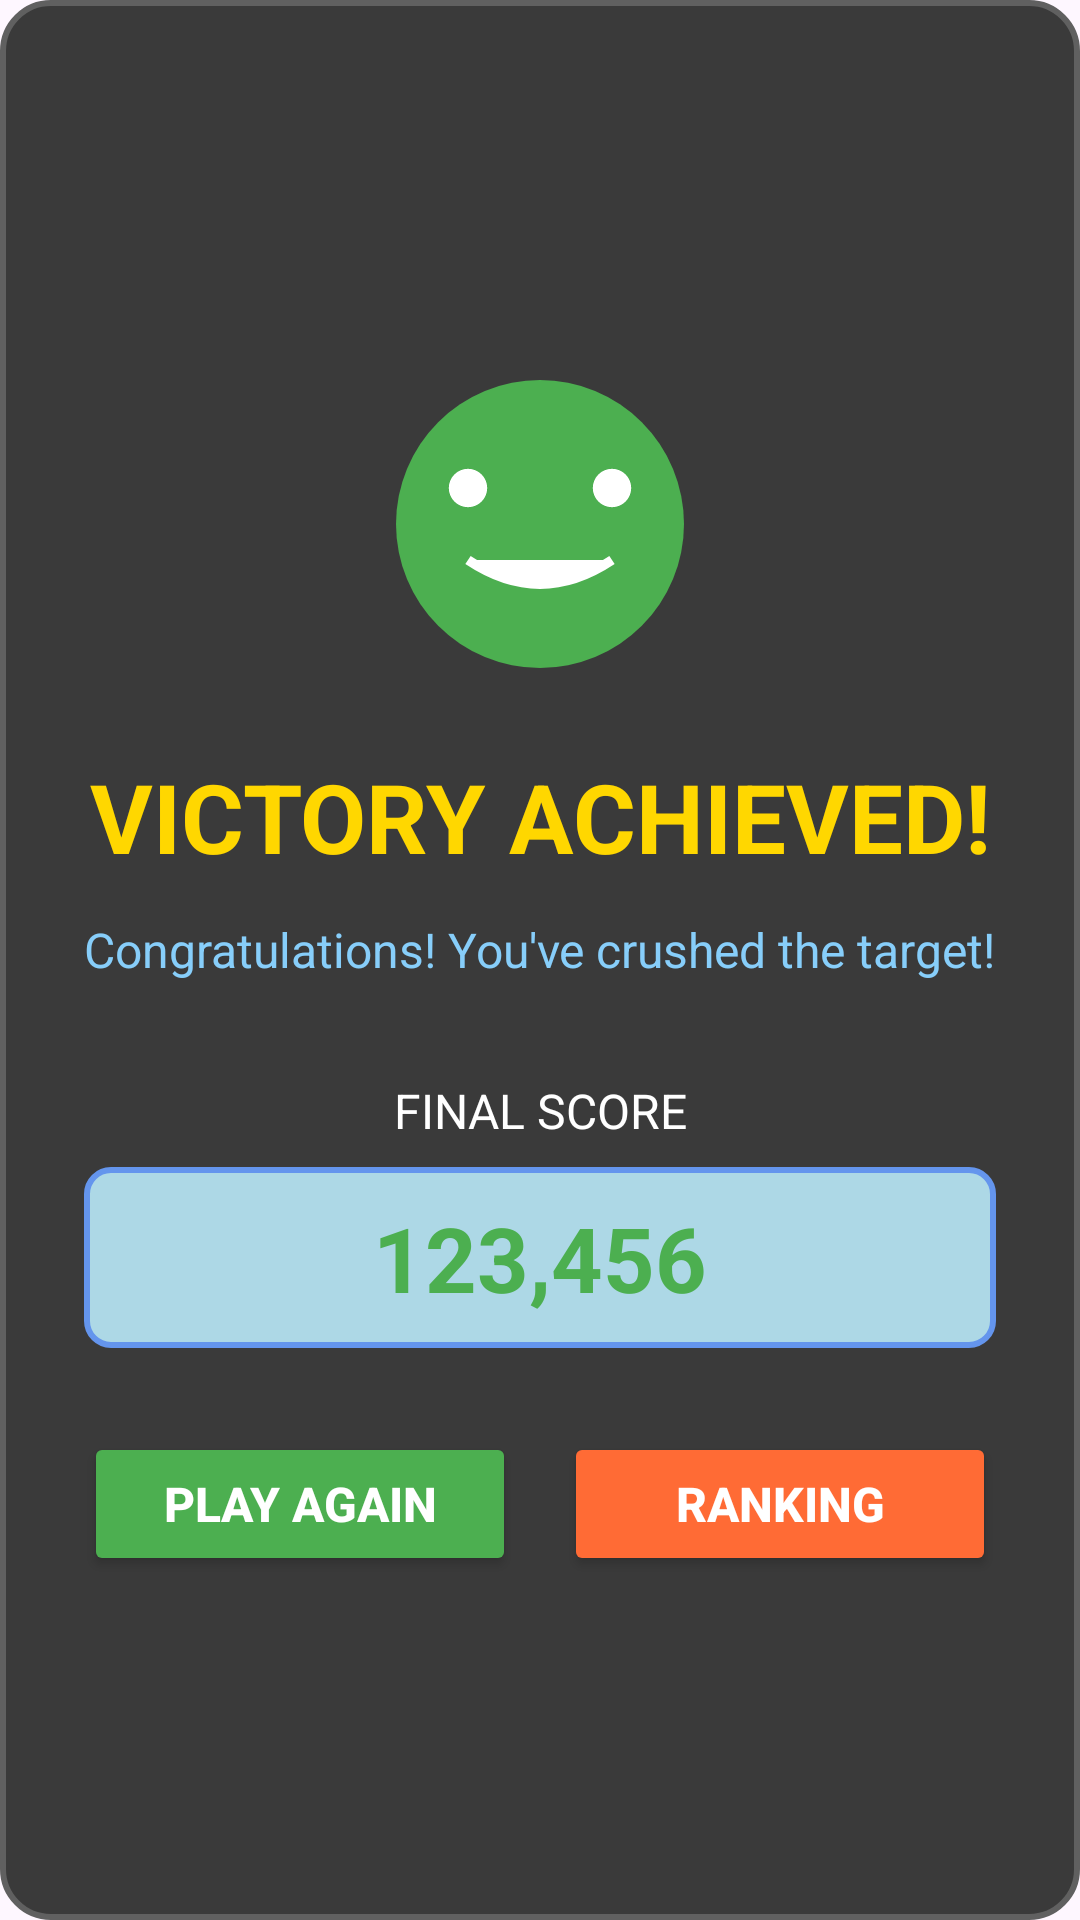

Icons on this 1080px×1920px Android screen, each with the point to tap as (x,y):
Congratulations: (540,524)
